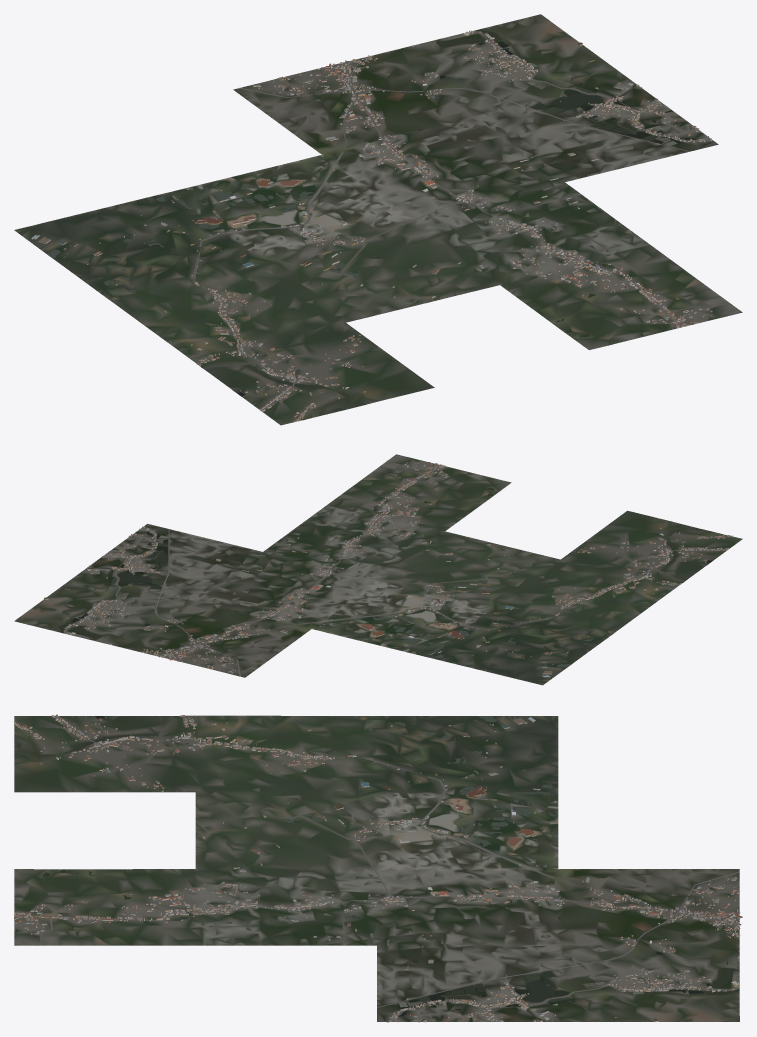
3 views of the same model, one above another, from view 1: azimuth 30°, elevation 25°; view 2: azimuth 150°, elevation 25°; view 3: azimuth 270°, elevation 25° (orthographic). The views are drawn at different scales.
Parts seen in each view (by area): view 1: ground, buildings, water, roads; view 2: ground, buildings, water, roads; view 3: ground, buildings, water, roads.
Part boxes in pixels (x1,y1,x2,y2): ground: (14, 14, 742, 425); buildings: (31, 30, 712, 422); water: (47, 29, 712, 410); roads: (194, 32, 729, 410); ground: (14, 454, 742, 685); buildings: (44, 461, 732, 677); water: (58, 487, 712, 667); roads: (66, 461, 728, 676); ground: (14, 715, 739, 1022); buildings: (14, 714, 742, 1022); water: (28, 716, 739, 1021); roads: (15, 715, 740, 1016).
Bounding box in the file's own units: 5620 × 37.49 × 5635.
